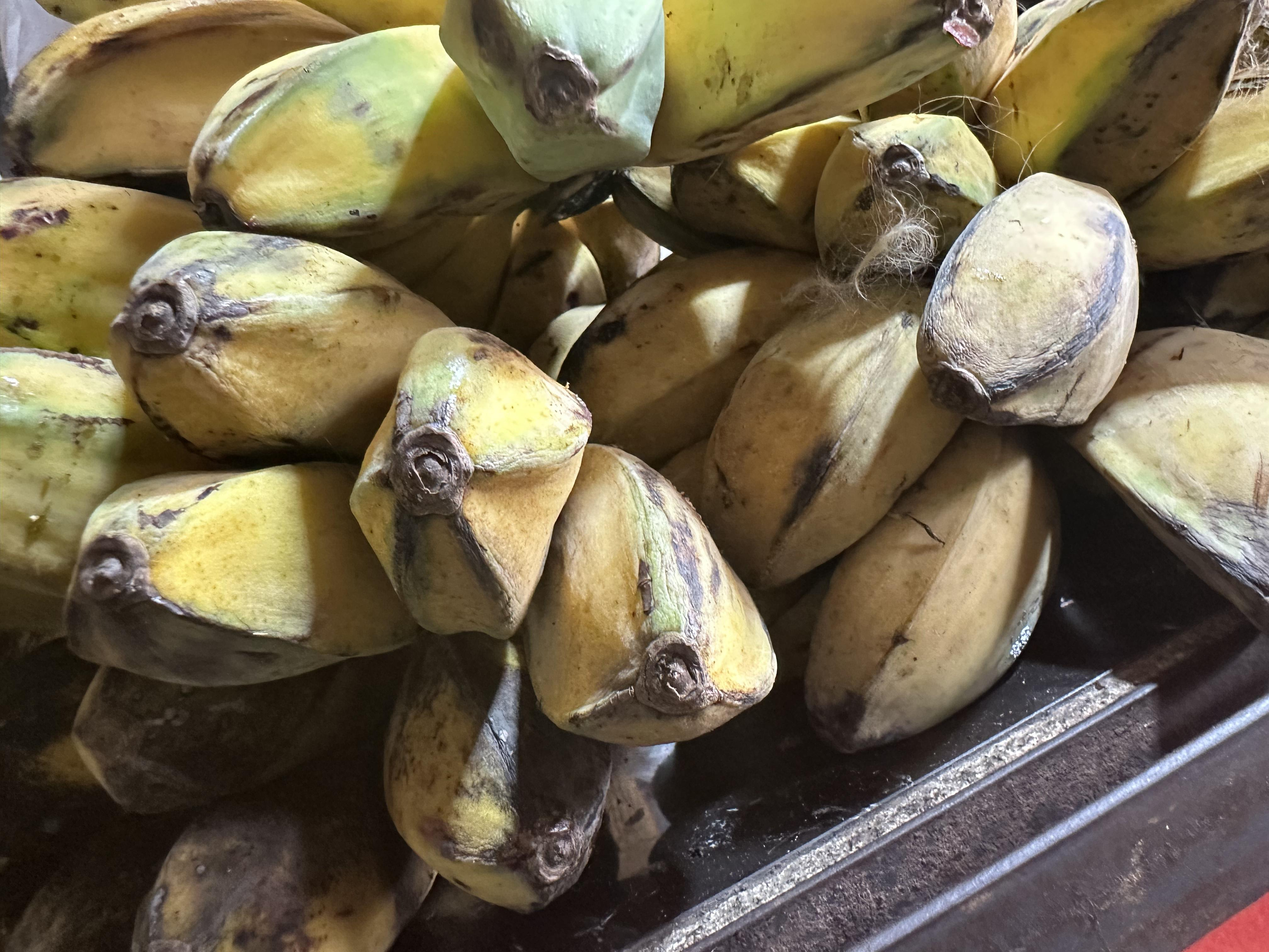ripe: (560, 173, 1269, 751), (0, 633, 610, 952)
underripe: (66, 232, 776, 744), (7, 0, 993, 240), (871, 0, 1269, 271), (0, 177, 206, 633), (613, 113, 1000, 259)
